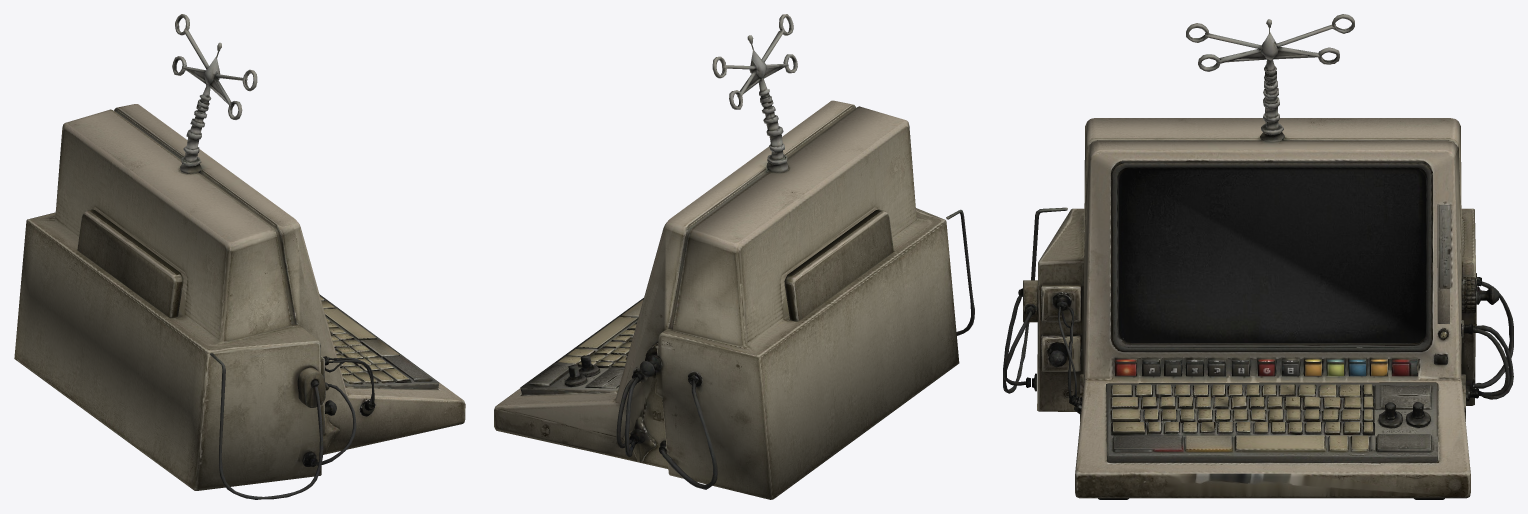
The model's file is Terminal.fbx.
The picture shows the model from 3 angles, left to right: view 1: azimuth 30°, elevation 25°; view 2: azimuth 150°, elevation 25°; view 3: azimuth 270°, elevation 25°; orthographic projection. The views are drawn at different scales.
Visible parts, largest first — view 1: tripo_node_439d288f; view 2: tripo_node_439d288f; view 3: tripo_node_439d288f.
Part boxes in pixels (<box>): tripo_node_439d288f: <box>14,14,465,499</box>; tripo_node_439d288f: <box>494,14,974,499</box>; tripo_node_439d288f: <box>1003,14,1513,499</box>.
Size of the model in its own units: 0.6816 by 0.873 by 0.998.
